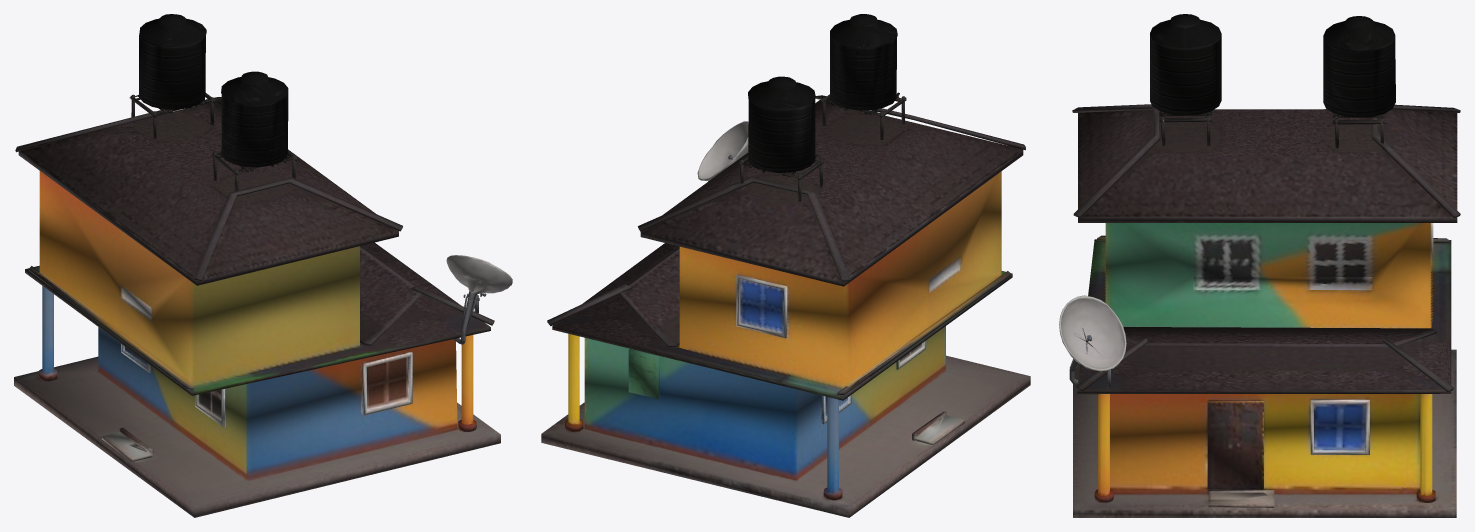
The model's file is water+tank+house+3d+model.glb.
3 views of the same model, side by side, from view 1: azimuth 30°, elevation 25°; view 2: azimuth 150°, elevation 25°; view 3: azimuth 270°, elevation 25° (orthographic). The views are drawn at different scales.
Visible parts, largest first — view 1: tripo_node_0ae7eb5c-e2fa-415a-99d9-1ab4104d4172; view 2: tripo_node_0ae7eb5c-e2fa-415a-99d9-1ab4104d4172; view 3: tripo_node_0ae7eb5c-e2fa-415a-99d9-1ab4104d4172.
Boxes of the visible parts, x1,y1,x2,y2 form: tripo_node_0ae7eb5c-e2fa-415a-99d9-1ab4104d4172: [14, 14, 512, 517]; tripo_node_0ae7eb5c-e2fa-415a-99d9-1ab4104d4172: [541, 14, 1030, 517]; tripo_node_0ae7eb5c-e2fa-415a-99d9-1ab4104d4172: [1059, 14, 1460, 517].
Bounding box in the file's own units: 0.8887 × 0.998 × 0.9082.
1 material, 1 textured.
